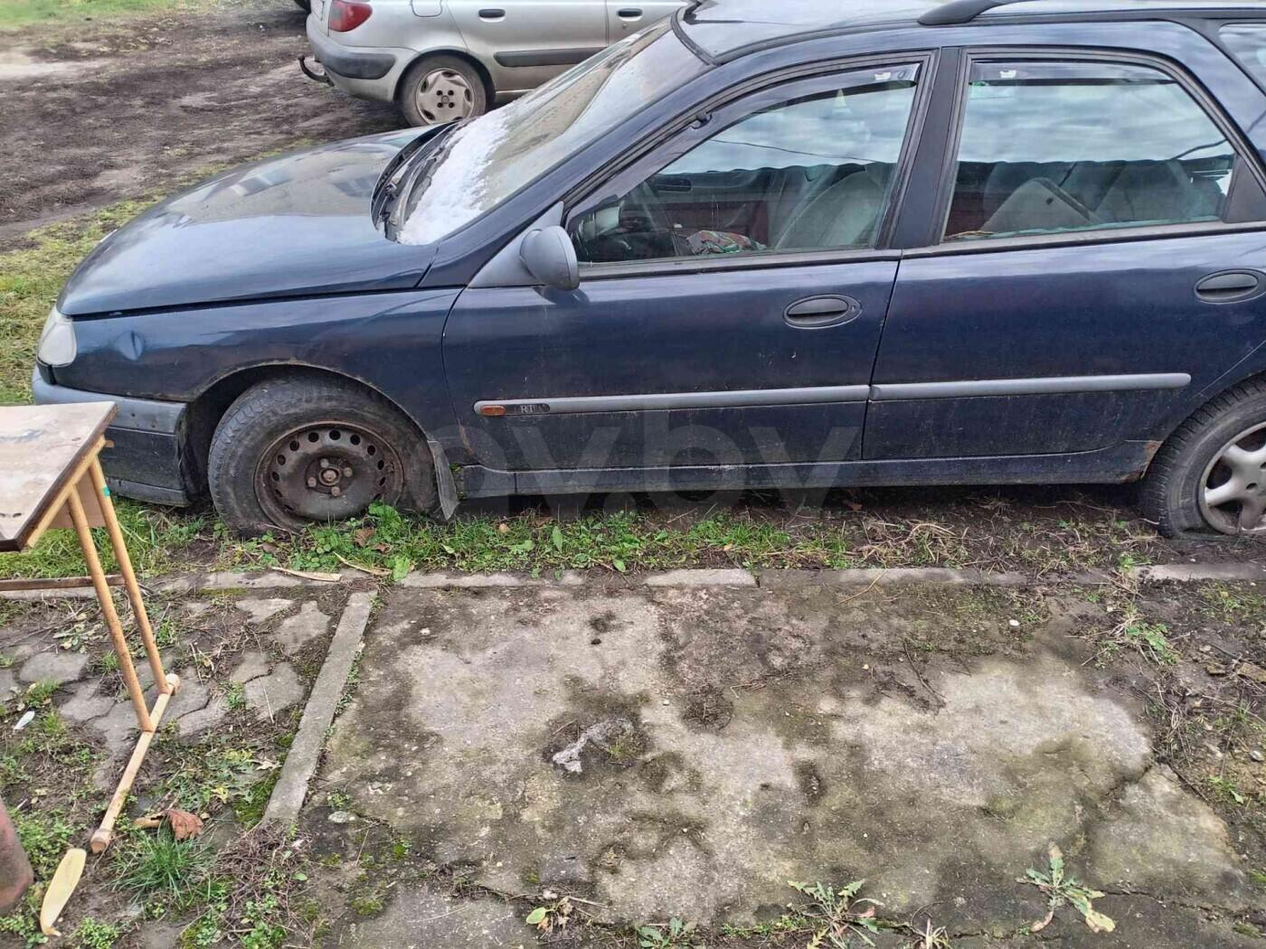Lahuna_1993-1999: (18, 0, 1266, 569)
